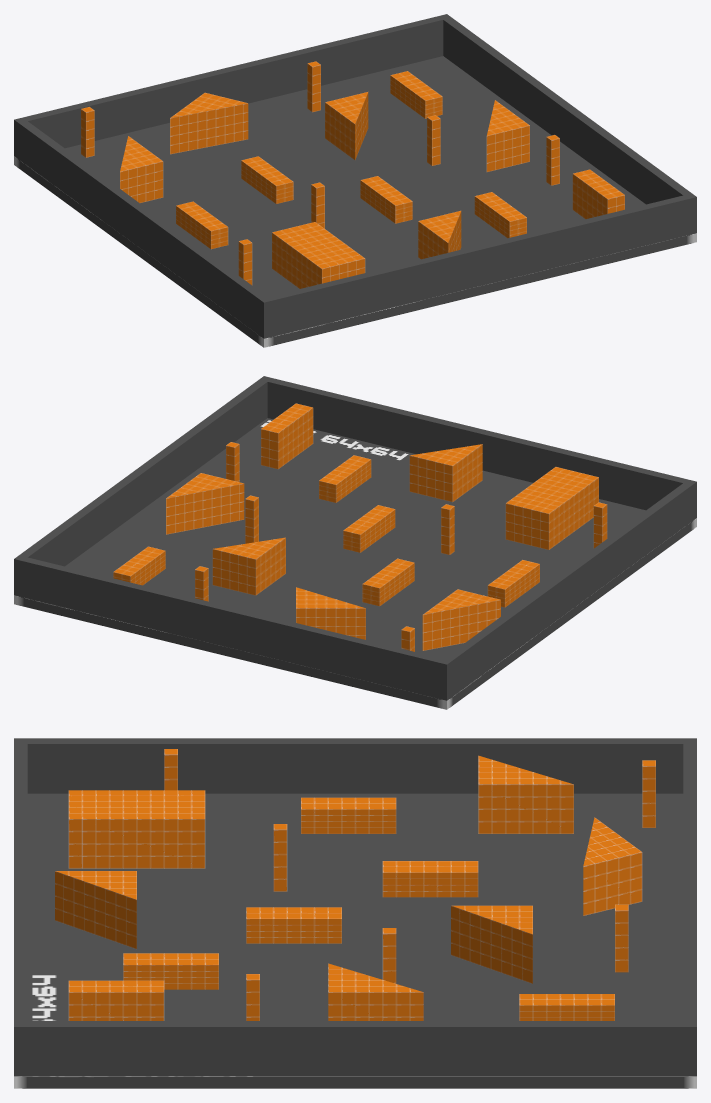
The model's file is fps_shooter_game_arena_map_v4.glb.
3 renders of one model, top to bottom at view 1: azimuth 30°, elevation 25°; view 2: azimuth 150°, elevation 25°; view 3: azimuth 270°, elevation 25°, orthographic. The views are drawn at different scales.
Visible parts, largest first — view 1: Cube, Cube__4_, Cube__2_, Cube__1_, Cube__3_, PolyShape__3_, PolyShape__9_, PolyShape, PolyShape__1_, PolyShape__7_, PolyShape__11_, PolyShape__10_ (+11 smaller); view 2: Cube, Cube__2_, Cube__4_, Cube__1_, Cube__3_, PolyShape__3_, PolyShape, PolyShape__1_, PolyShape__10_, PolyShape__7_, PolyShape__11_, PolyShape__9_ (+9 smaller); view 3: Cube, Cube__3_, Cube__1_, PolyShape__3_, PolyShape__7_, PolyShape__1_, PolyShape__10_, Cube__2_, PolyShape__9_, PolyShape, PolyShape__11_, Cube__4_ (+11 smaller).
Part boxes in pixels (x1,y1,x2,y2): Cube: [14, 56, 696, 347]; Cube__4_: [259, 195, 688, 338]; Cube__2_: [23, 14, 451, 148]; Cube__1_: [14, 117, 267, 334]; Cube__3_: [443, 17, 696, 235]; PolyShape__3_: [272, 222, 365, 288]; PolyShape__9_: [170, 92, 248, 154]; PolyShape: [486, 100, 529, 171]; PolyShape__1_: [325, 92, 368, 159]; PolyShape__7_: [120, 136, 163, 202]; PolyShape__11_: [572, 169, 624, 219]; PolyShape__10_: [418, 210, 461, 259]; Cube: [14, 418, 696, 709]; Cube__2_: [14, 555, 442, 698]; Cube__4_: [267, 378, 696, 521]; Cube__1_: [438, 483, 691, 700]; Cube__3_: [19, 376, 272, 566]; PolyShape__3_: [505, 467, 598, 549]; PolyShape: [166, 473, 244, 534]; PolyShape__1_: [212, 537, 285, 595]; PolyShape__10_: [409, 444, 482, 502]; PolyShape__7_: [422, 589, 500, 650]; PolyShape__11_: [261, 403, 313, 469]; PolyShape__9_: [296, 587, 365, 639]; Cube: [14, 793, 696, 1088]; Cube__3_: [14, 1021, 683, 1076]; Cube__1_: [27, 738, 696, 793]; PolyShape__3_: [68, 790, 205, 868]; PolyShape__7_: [478, 755, 573, 833]; PolyShape__1_: [451, 905, 532, 983]; PolyShape__10_: [55, 871, 136, 949]; Cube__2_: [683, 744, 696, 1076]; PolyShape__9_: [583, 817, 642, 915]; PolyShape: [328, 963, 423, 1020]; PolyShape__11_: [68, 980, 164, 1020]; Cube__4_: [14, 738, 27, 1020].
Bounding box in the file's own units: 50 × 6 × 50.
Materials: 4 (4 with a texture image).
